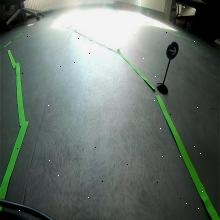right: (166, 40, 179, 60)
